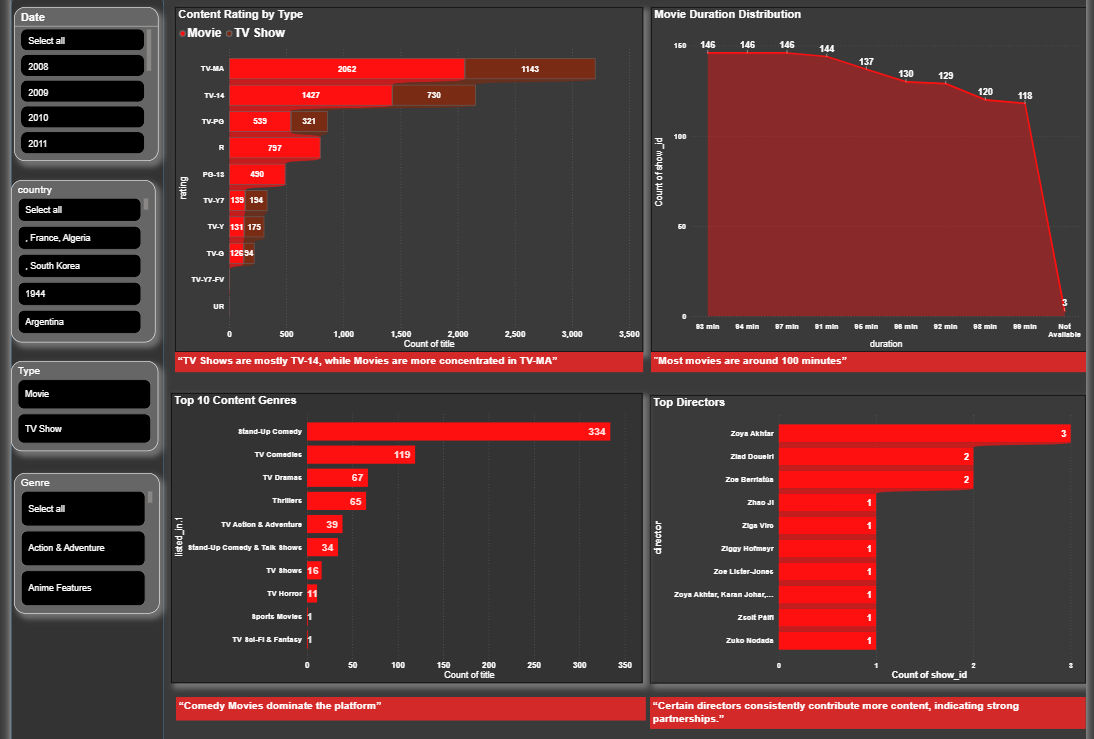

The page's visual inventory and layout, read from the dashboard file:
{"tool":"powerbi","page":{"name":"Content Deep Dive Analysis","canvas":[1920,1500],"ordinal":1},"visuals":[{"type":"barChart","title":"Content Rating by Type","fields":{"Category":["netflix_titles.rating"],"Y":["CountNonNull(netflix_titles.title)"],"Series":["netflix_titles.type"]},"box":[292.6,28.3,836,616.2],"z":0},{"type":"textbox","box":[292.6,644.5,836,36.4],"z":1000},{"type":"areaChart","title":"Movie Duration Distribution","fields":{"Category":["netflix_titles.duration"],"Y":["CountNonNull(netflix_titles.show_id)"]},"box":[1142,28.3,778,616.2],"z":2000},{"type":"textbox","box":[1142,644.5,778,36.4],"z":3000},{"type":"barChart","title":"Top Directors ","fields":{"Y":["CountNonNull(netflix_titles.show_id)"],"Category":["netflix_titles.director"]},"box":[1141.8,720.9,777.6,514.9],"z":6000},{"type":"textbox","box":[1141.8,1261.2,777.6,56.7],"z":7000},{"type":"shape","box":[0,0,273.4,1489],"z":8000},{"type":"advancedSlicerVisual","title":"Date","fields":{"Values":["netflix_titles.Year Hierarchy.Year"]},"box":[6.2,27.8,258,274.9],"z":9000},{"type":"advancedSlicerVisual","fields":{"Values":["netflix_titles.country"]},"box":[0,336.7,258,290.4],"z":10000},{"type":"advancedSlicerVisual","title":"Type","fields":{"Values":["netflix_titles.type"]},"box":[0,661.1,262.6,160.6],"z":11000},{"type":"advancedSlicerVisual","title":"Genre","fields":{"Values":["netflix_titles.listed_in.1"]},"box":[4.8,860.1,259.6,251.2],"z":13000},{"type":"clusteredBarChart","title":"Top 10 Content Genres","fields":{"Y":["CountNonNull(netflix_titles.title)"],"Category":["netflix_titles.listed_in.1","netflix_titles.listed_in.2"]},"box":[286.6,717.9,841.8,517.9],"z":13001},{"type":"textbox","box":[294,1261.2,838.8,41.8],"z":13002}]}

Visuals, with their boxes on the page's 1920x1500 design canvas (x1, y1, x2, y2). These are canvas units, not pixel positions in the 1094x739 screenshot, which may show the page scaled, cropped or inside an application window:
"Content Rating by Type" barChart: [293, 28, 1129, 644]
textbox: [293, 644, 1129, 681]
"Movie Duration Distribution" areaChart: [1142, 28, 1920, 644]
textbox: [1142, 644, 1920, 681]
"Top Directors " barChart: [1142, 721, 1919, 1236]
textbox: [1142, 1261, 1919, 1318]
shape: [0, 0, 273, 1489]
"Date" advancedSlicerVisual: [6, 28, 264, 303]
advancedSlicerVisual - netflix_titles.country: [0, 337, 258, 627]
"Type" advancedSlicerVisual: [0, 661, 263, 822]
"Genre" advancedSlicerVisual: [5, 860, 264, 1111]
"Top 10 Content Genres" clusteredBarChart: [287, 718, 1128, 1236]
textbox: [294, 1261, 1133, 1303]
